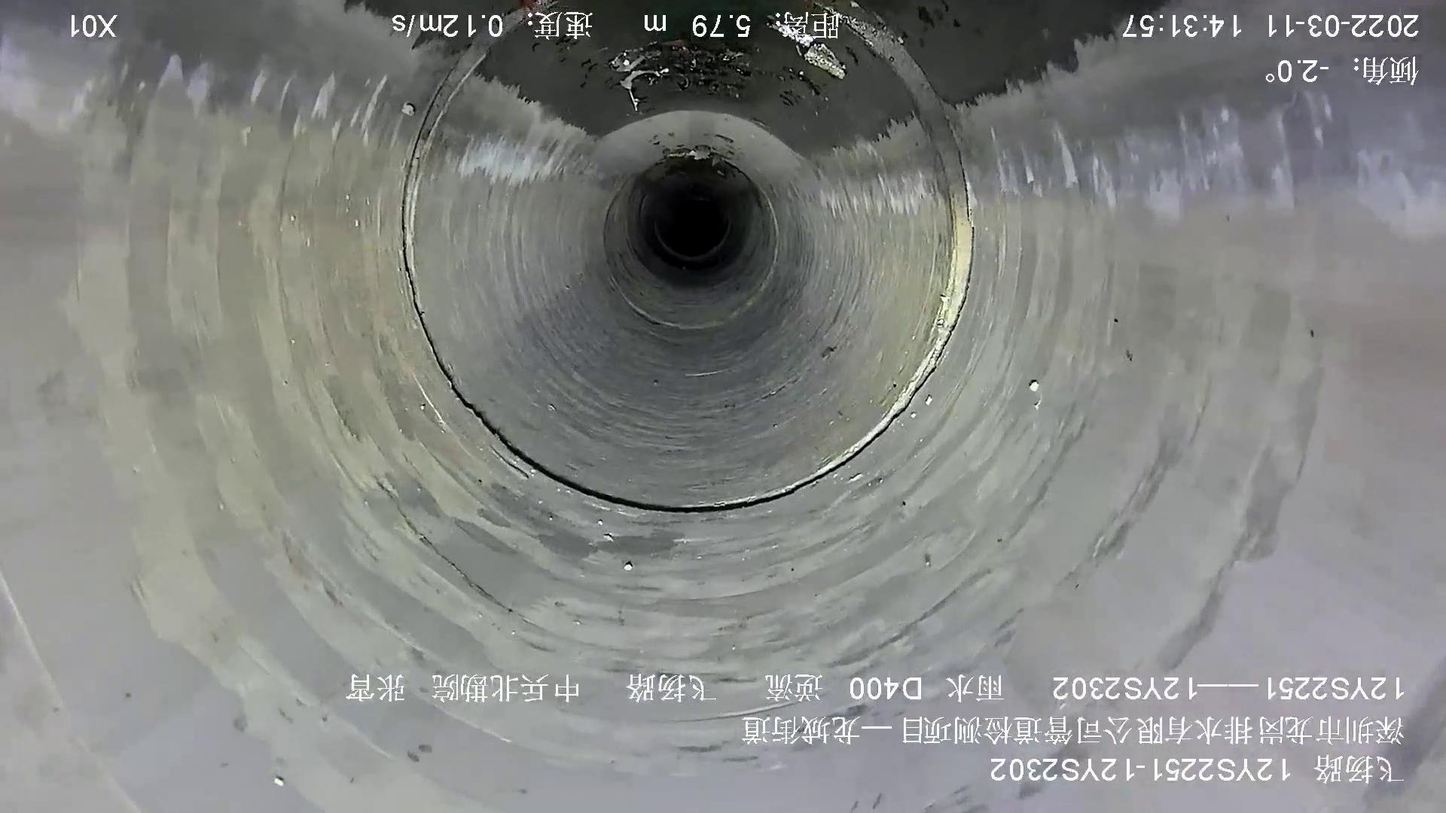CKTJ: (400, 1, 976, 513)
